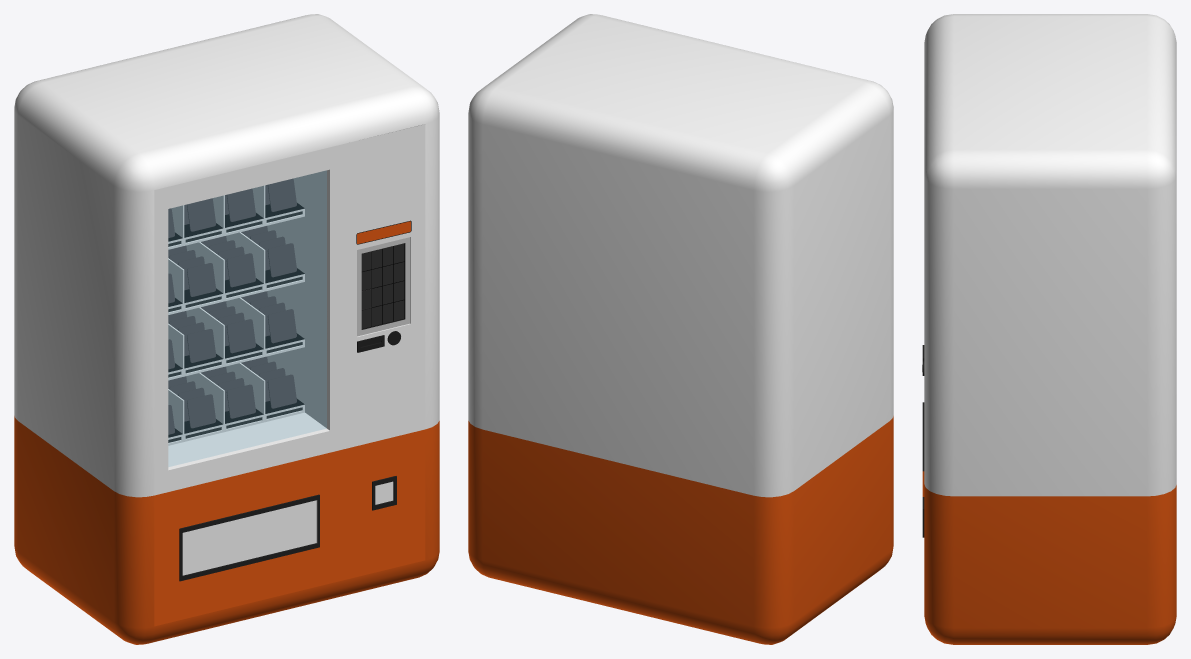
The model's file is vending_machine.glb.
The picture shows the model from 3 angles, left to right: view 1: azimuth 30°, elevation 25°; view 2: azimuth 150°, elevation 25°; view 3: azimuth 270°, elevation 25°; orthographic projection.
Parts seen in each view (by area): view 1: Cube_Bevel, Door, Row.07_Plane.062, Row.08_Plane.063, Row.15_Plane.126, Row.16_Plane.127, Row.14_Plane.125, Row.11_Plane.094, Row.12_Plane.095, Row.06_Plane.061, Row.10_Plane.093, Row.02_Plane.029 (+2 smaller); view 2: Cube_Bevel; view 3: Cube_Bevel.
Boxes of the visible parts, x1=… form: Cube_Bevel: x1=14, y1=14, x2=439, y2=644; Door: x1=182, y1=500, x2=316, y2=575; Row.07_Plane.062: x1=226, y1=253, x2=255, y2=287; Row.08_Plane.063: x1=267, y1=243, x2=296, y2=277; Row.15_Plane.126: x1=226, y1=384, x2=255, y2=418; Row.16_Plane.127: x1=267, y1=374, x2=296, y2=408; Row.14_Plane.125: x1=187, y1=394, x2=215, y2=428; Row.11_Plane.094: x1=226, y1=319, x2=255, y2=353; Row.12_Plane.095: x1=267, y1=309, x2=296, y2=343; Row.06_Plane.061: x1=187, y1=263, x2=215, y2=296; Row.10_Plane.093: x1=187, y1=329, x2=215, y2=362; Row.02_Plane.029: x1=187, y1=198, x2=215, y2=231; Cube_Bevel: x1=468, y1=14, x2=893, y2=644; Cube_Bevel: x1=922, y1=14, x2=1176, y2=644.
Size of the model in its own units: 1.26 by 1.83 by 0.857.
